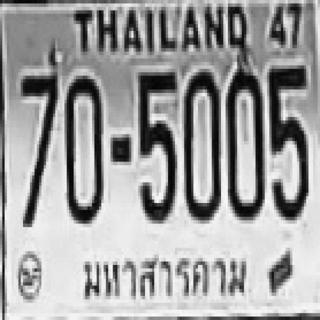N00: (182, 70, 219, 218), (65, 72, 101, 220), (226, 69, 262, 217)
N05: (267, 64, 306, 218), (137, 69, 176, 220)
N07: (20, 72, 56, 224), (20, 72, 56, 172)
P25: (80, 250, 250, 304)
